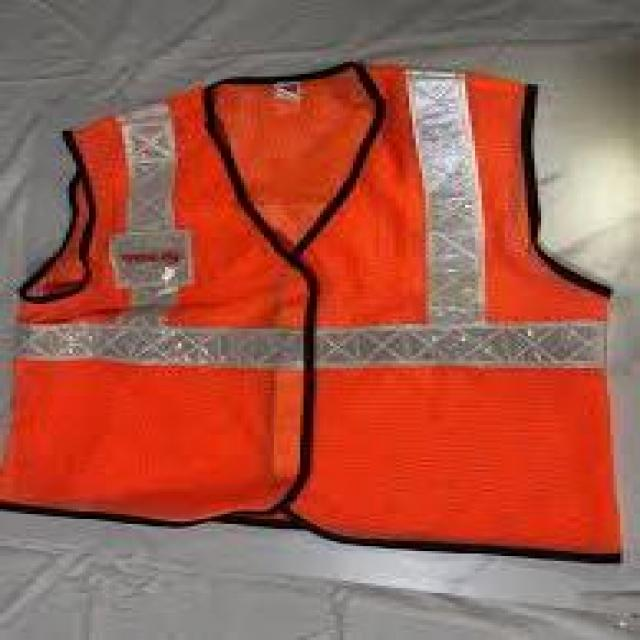Reflective-Jacket: (0, 37, 640, 561)
